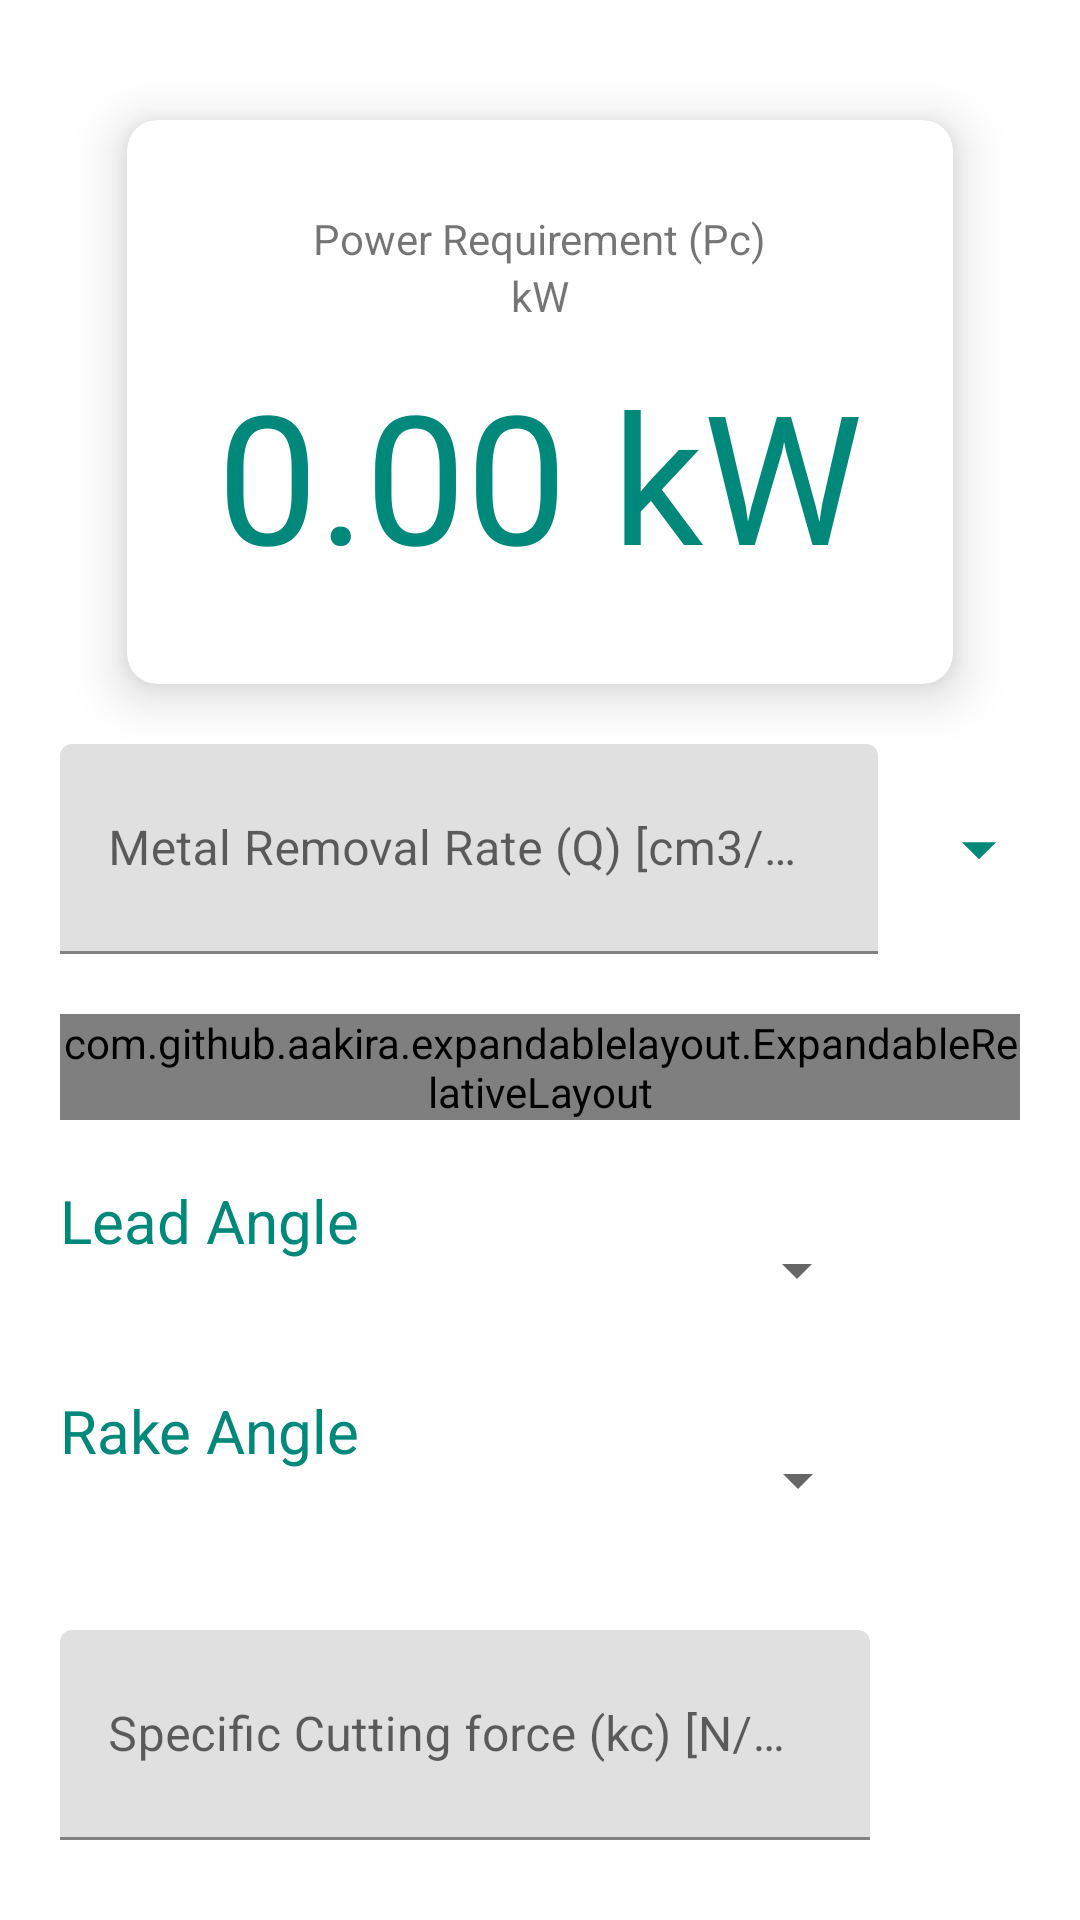

Icons on this 1080 x 1920 Android screen, each with its box as (x1, y1, x2, y2):
arrow drop down: (962, 842, 996, 859)
